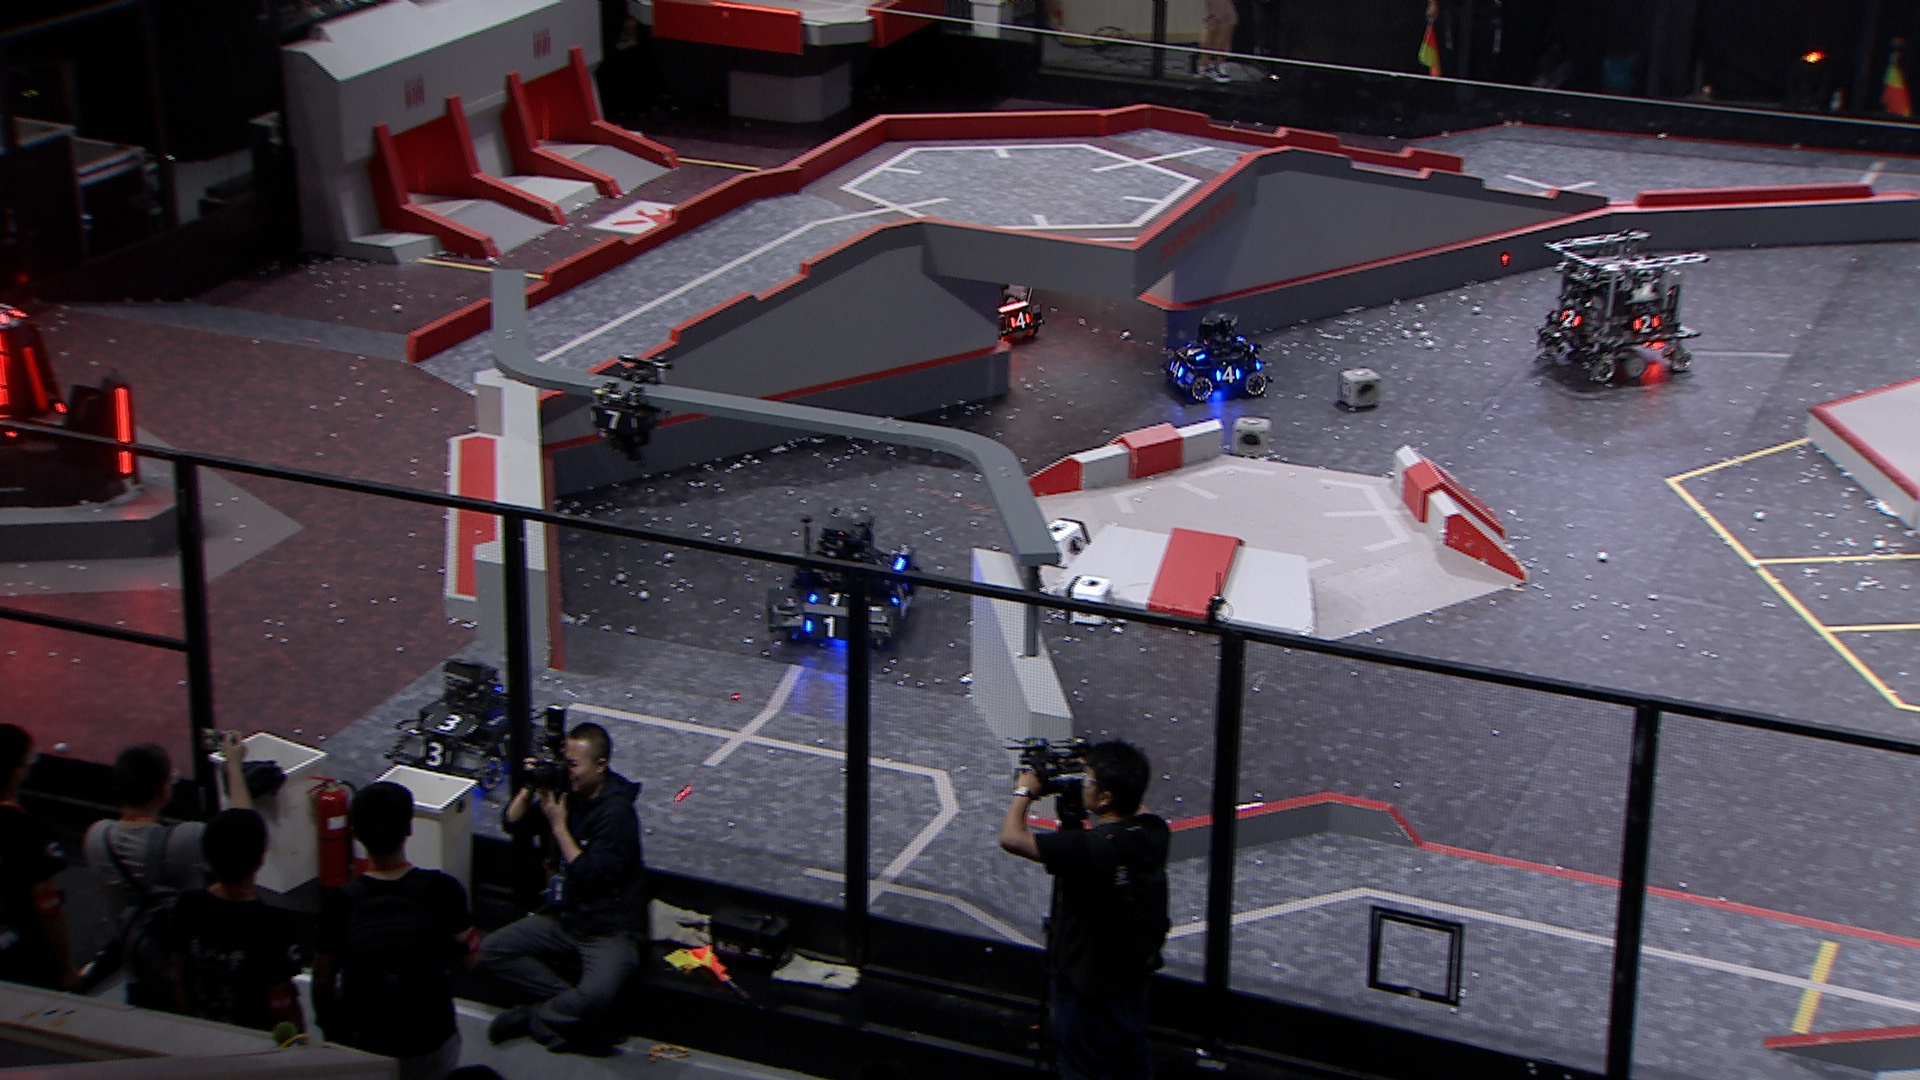armor: (109, 386, 135, 477), (21, 343, 49, 414), (419, 711, 480, 738), (585, 409, 641, 433), (802, 616, 847, 641), (418, 742, 456, 770), (808, 589, 851, 609), (1633, 314, 1662, 335), (1215, 367, 1245, 386), (889, 582, 913, 607), (1182, 342, 1209, 363), (1557, 309, 1584, 328), (1007, 310, 1031, 328), (1167, 357, 1187, 378)
car: (1536, 224, 1712, 390), (764, 501, 923, 651), (386, 651, 546, 793), (1159, 314, 1273, 404), (945, 258, 1050, 348)
watcher: (584, 352, 675, 467)
